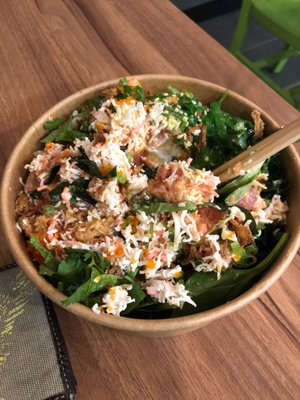curry: (195, 99, 255, 169)
salad: (208, 115, 300, 198)
sushi: (6, 62, 299, 338)
